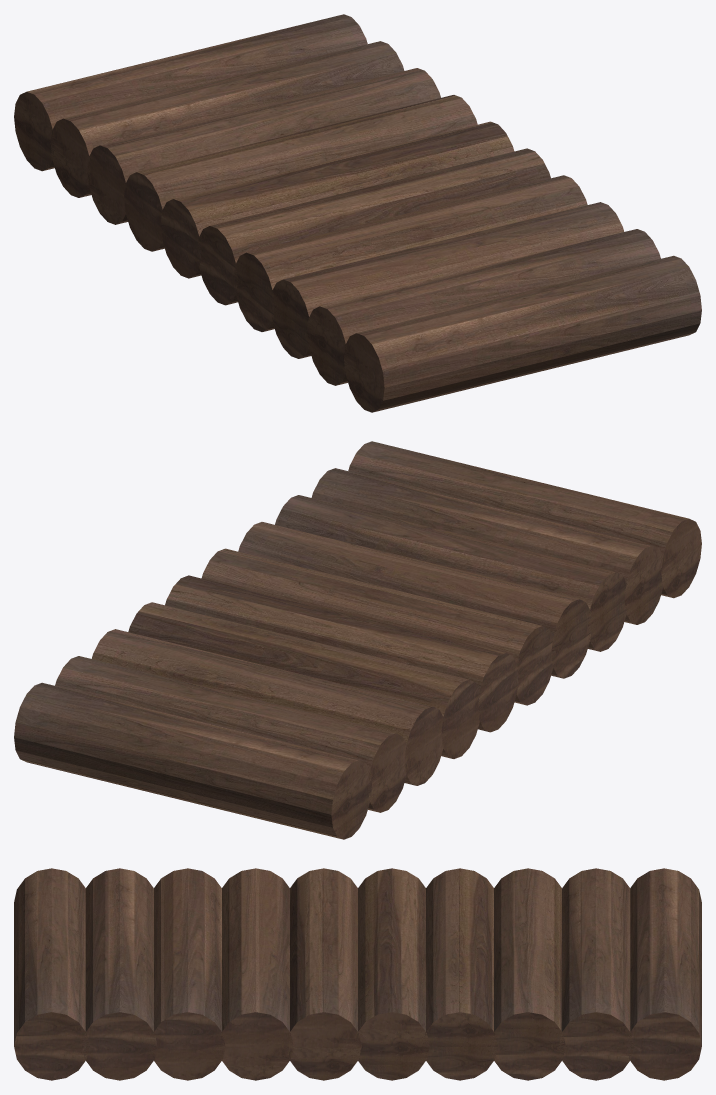
File: wood_1.fbx
3 renders of one model, top to bottom at view 1: azimuth 30°, elevation 25°; view 2: azimuth 150°, elevation 25°; view 3: azimuth 270°, elevation 25°, orthographic. The views are drawn at different scales.
Visible parts, largest first — view 1: wood.001; view 2: wood.001; view 3: wood.001.
Part boxes in pixels (x1=…): wood.001: x1=14, y1=14, x2=701, y2=412; wood.001: x1=14, y1=441, x2=701, y2=839; wood.001: x1=14, y1=868, x2=701, y2=1080.
Bounding box in the file's own units: 450 × 100 × 910.
